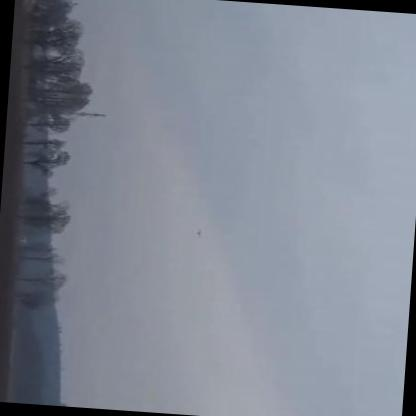plane: (192, 225, 208, 239)
